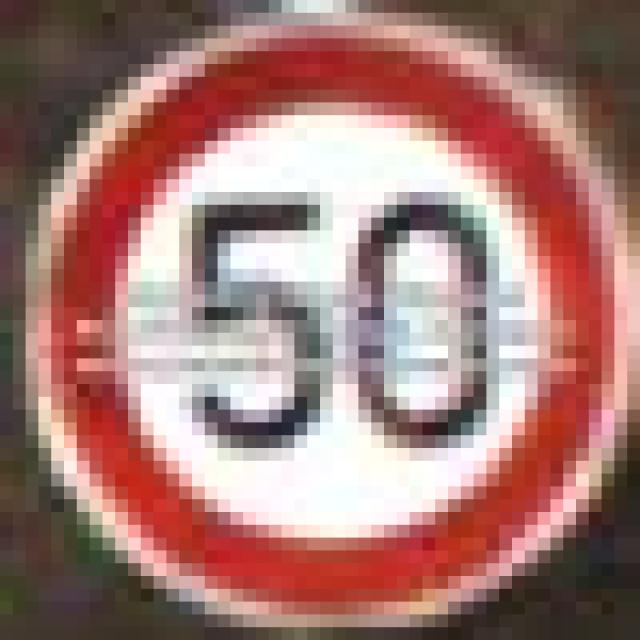speed_limit_30: (39, 26, 602, 588)
